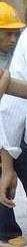boots: (1, 234, 27, 246), (0, 1, 2, 1)
hard-hat: (1, 1, 25, 30)
